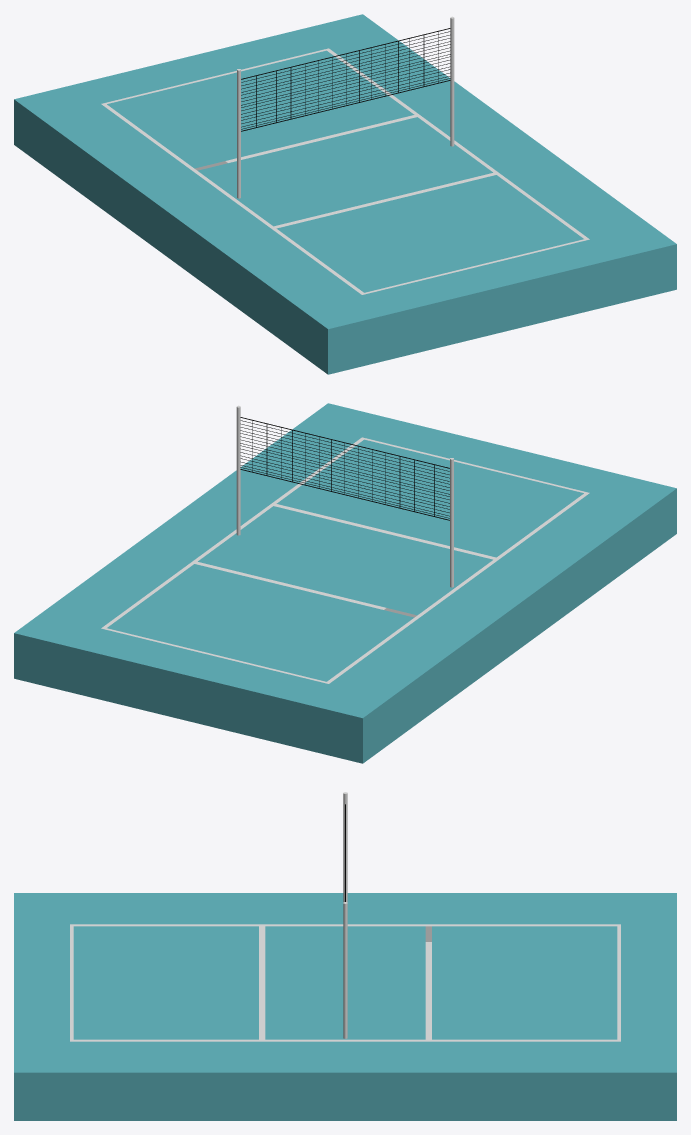
File: wang3.fbx
The picture shows the model from 3 angles, top to bottom: view 1: azimuth 30°, elevation 25°; view 2: azimuth 150°, elevation 25°; view 3: azimuth 270°, elevation 25°; orthographic projection. The views are drawn at different scales.
Visible parts, largest first — view 1: pPlane1, polySurface40; view 2: pPlane1, polySurface40; view 3: pPlane1, polySurface40.
Part boxes in pixels (x1,y1,x2,y2): pPlane1: (14, 14, 676, 374); polySurface40: (237, 16, 454, 198); pPlane1: (14, 403, 676, 763); polySurface40: (236, 405, 453, 587); pPlane1: (14, 893, 676, 1120); polySurface40: (343, 792, 347, 1038).
Bounding box in the file's own units: 14.16 × 6.73 × 22.09.
